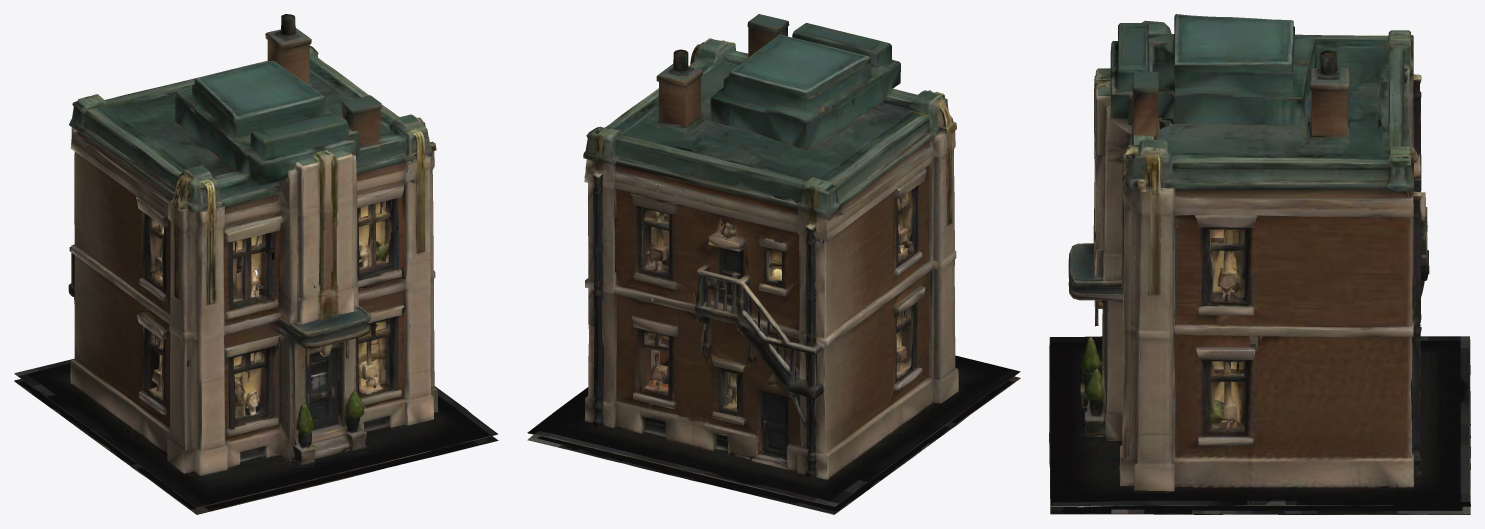
Rendered from candidate.glb.
The picture shows the model from 3 angles, left to right: view 1: azimuth 30°, elevation 25°; view 2: azimuth 150°, elevation 25°; view 3: azimuth 270°, elevation 25°; orthographic projection. The views are drawn at different scales.
Visible parts, largest first — view 1: expansion__tower_2__native_mobile; view 2: expansion__tower_2__native_mobile; view 3: expansion__tower_2__native_mobile.
Boxes of the visible parts, x1,y1,x2,y2 form: expansion__tower_2__native_mobile: (14,14,498,514); expansion__tower_2__native_mobile: (527,14,1020,514); expansion__tower_2__native_mobile: (1049,14,1470,514).
Bounding box in the file's own units: 0.8841 × 1 × 0.9297.
Materials: 1 (1 with a texture image).
